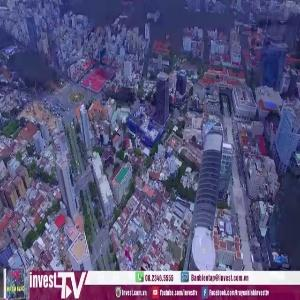drone: (42, 244, 83, 285)
